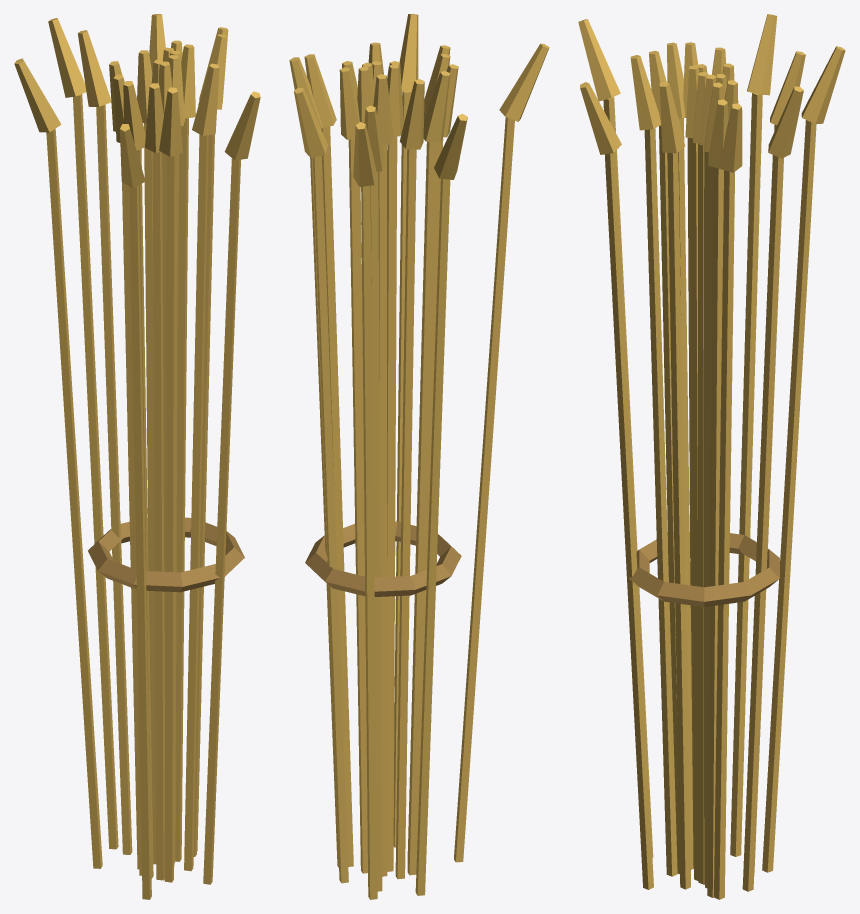
The model's file is wheat_sheaf.glb.
3 views of the same model, side by side, from view 1: azimuth 30°, elevation 25°; view 2: azimuth 150°, elevation 25°; view 3: azimuth 270°, elevation 25° (orthographic).
Visible parts, largest first — view 1: sheaf; view 2: sheaf; view 3: sheaf.
Part boxes in pixels (x1,y1,x2,y2): sheaf: (14,14,260,899); sheaf: (289,14,549,899); sheaf: (578,14,845,899).
Bounding box in the file's own units: 0.2479 × 0.9827 × 0.293.
